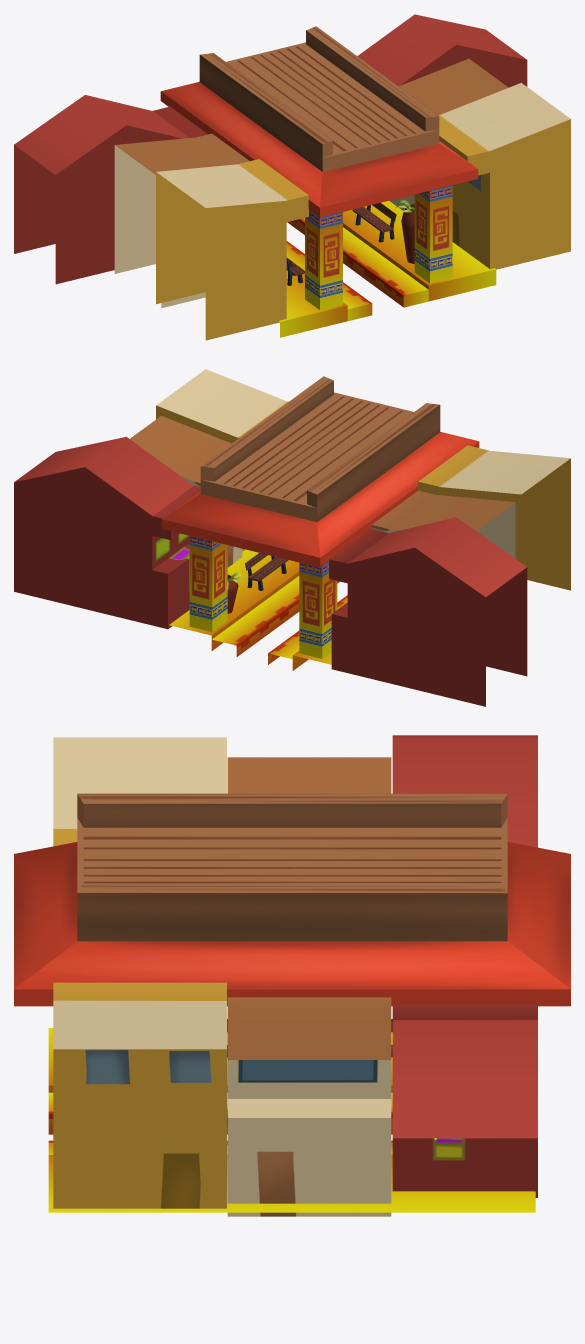
The model's file is nhacho.fbx.
The picture shows the model from 3 angles, top to bottom: view 1: azimuth 30°, elevation 25°; view 2: azimuth 150°, elevation 25°; view 3: azimuth 270°, elevation 25°; orthographic projection. The views are drawn at different scales.
Parts seen in each view (by area): view 1: polySurface147, polySurface134, polySurface136; view 2: polySurface147, polySurface134, polySurface136; view 3: polySurface147.
Part boxes in pixels (left/top/right/bottom): polySurface147: left=14, top=14, right=570, bottom=340; polySurface134: left=287, top=218, right=428, bottom=307; polySurface136: left=286, top=241, right=372, bottom=321; polySurface147: left=14, top=369, right=570, bottom=706; polySurface134: left=212, top=576, right=339, bottom=656; polySurface136: left=268, top=595, right=347, bottom=664; polySurface147: left=14, top=735, right=570, bottom=1216.
Size of the model in its own units: 151 by 53.41 by 88.18.
